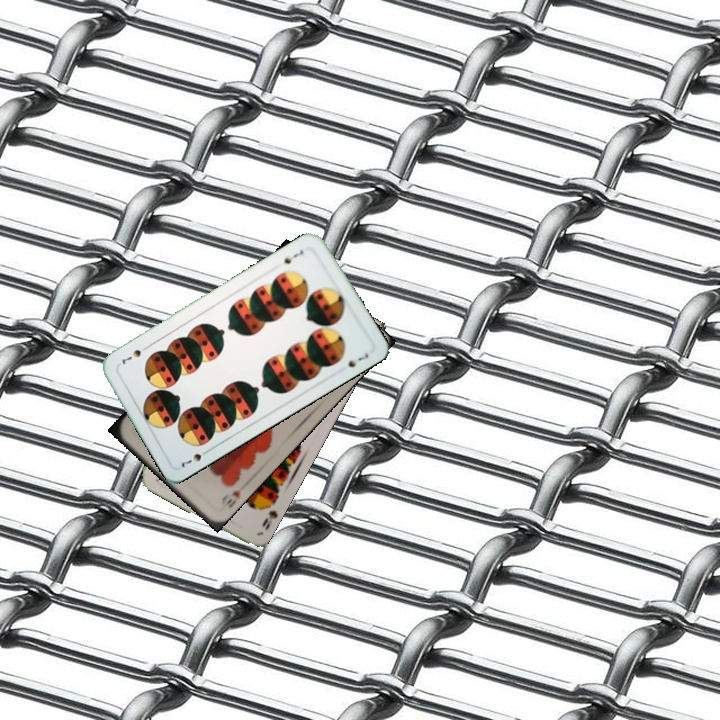H10: (217, 480, 249, 510)
S7: (177, 445, 213, 470), (280, 245, 306, 267)
S9: (258, 495, 280, 533)
